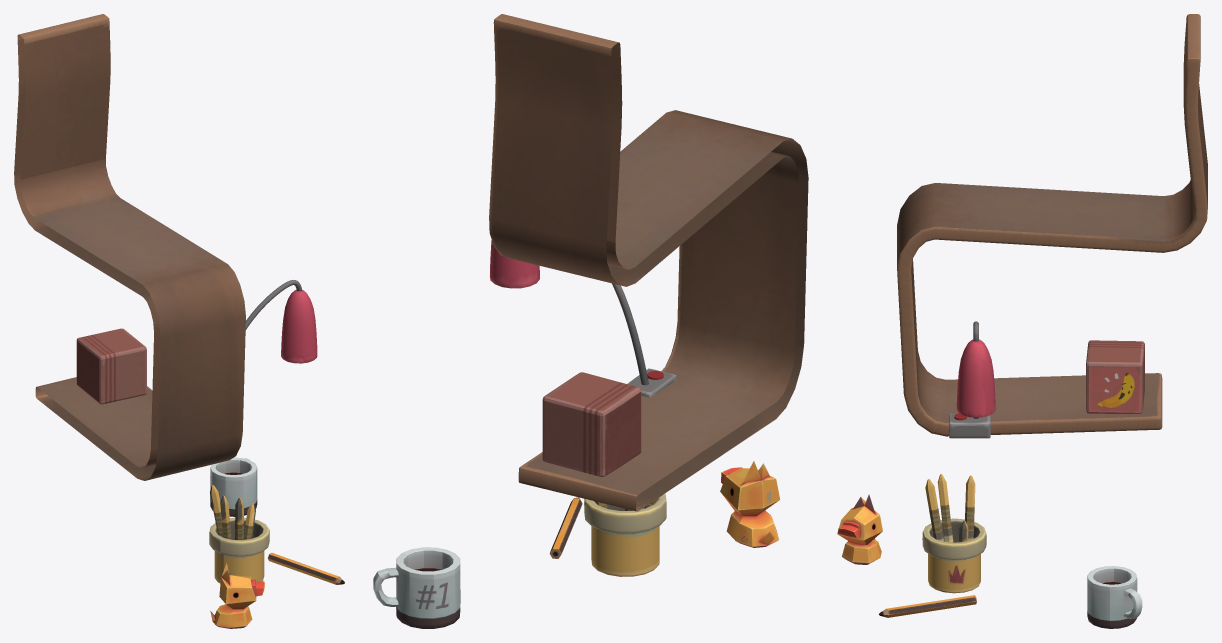
File: tablebookshelf.fbx
3 renders of one model, left to right at view 1: azimuth 30°, elevation 25°; view 2: azimuth 150°, elevation 25°; view 3: azimuth 270°, elevation 25°, orthographic. The views are drawn at different scales.
Parts seen in each view (by area): view 1: Material #408, Material #412, tex (1).001, Material #411, tex (23), Material #441, tex (89); view 2: Material #408, Material #412, tex (23), tex (1).001, Material #441, Material #411, tex (89); view 3: Material #408, tex (1).001, Material #412, Material #411, tex (23), Material #441, tex (89).
Boxes of the visible parts, x1=… form: Material #408: x1=14, y1=14, x2=245, y2=480; Material #412: x1=76, y1=328, x2=146, y2=404; tex (1).001: x1=209, y1=485, x2=269, y2=583; Material #411: x1=245, y1=280, x2=317, y2=363; tex (23): x1=210, y1=457, x2=257, y2=516; Material #441: x1=210, y1=563, x2=264, y2=628; tex (89): x1=267, y1=553, x2=344, y2=584; Material #408: x1=489, y1=14, x2=808, y2=511; Material #412: x1=542, y1=372, x2=641, y2=477; tex (23): x1=373, y1=547, x2=460, y2=628; tex (1).001: x1=584, y1=493, x2=666, y2=576; Material #441: x1=720, y1=461, x2=780, y2=547; Material #411: x1=490, y1=240, x2=676, y2=397; tex (89): x1=549, y1=497, x2=582, y2=558; Material #408: x1=897, y1=14, x2=1207, y2=436; tex (1).001: x1=922, y1=474, x2=986, y2=593; Material #412: x1=1086, y1=340, x2=1144, y2=413; Material #411: x1=949, y1=321, x2=995, y2=438; tex (23): x1=1087, y1=566, x2=1142, y2=628; Material #441: x1=837, y1=494, x2=882, y2=564; tex (89): x1=879, y1=595, x2=976, y2=617.
Size of the model in its own units: 208 by 477 by 311.
7 materials, 7 textured.
